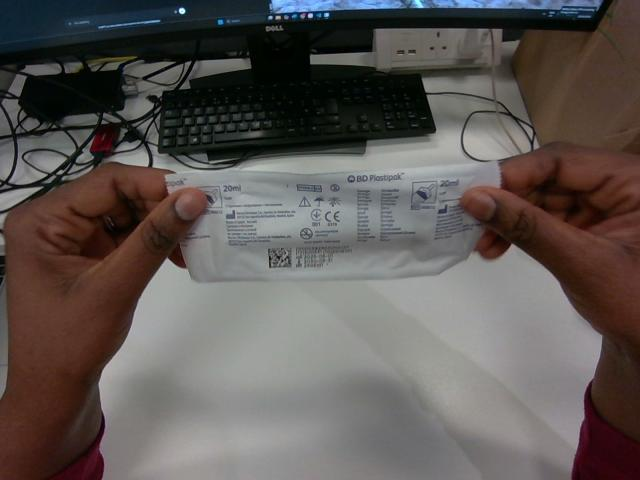syringe: (166, 162, 500, 281)
